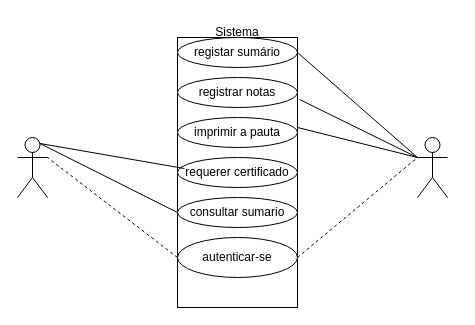
Image size: 475x325. Some labels were removed from this diagram. Each missing label, with the centre of its shape:
"Aluno" belongs at (x=32, y=167).
"Professor" belongs at (x=432, y=167).
